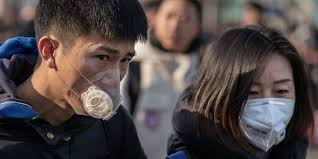masked: (29, 1, 132, 122), (204, 27, 303, 148)
